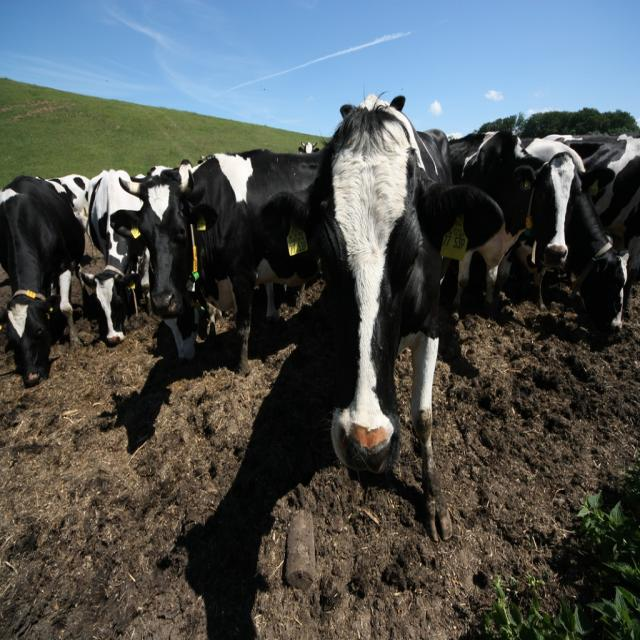Cattle: (0, 82, 640, 544)
